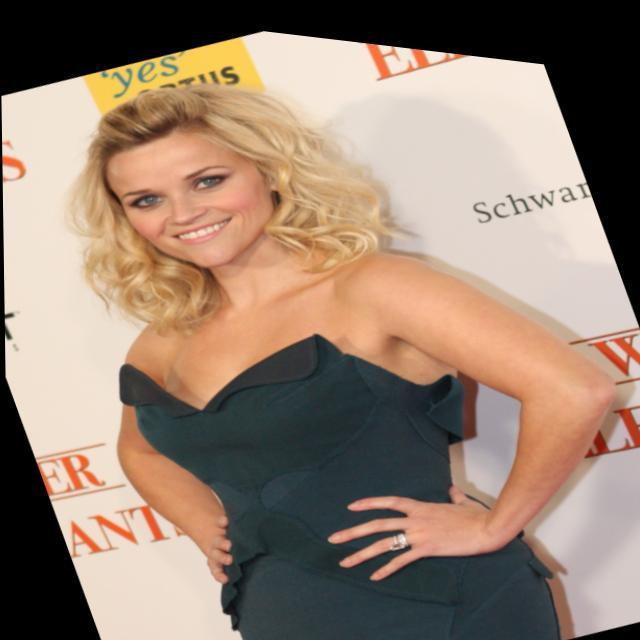Nonhelmet: (104, 82, 324, 270)
